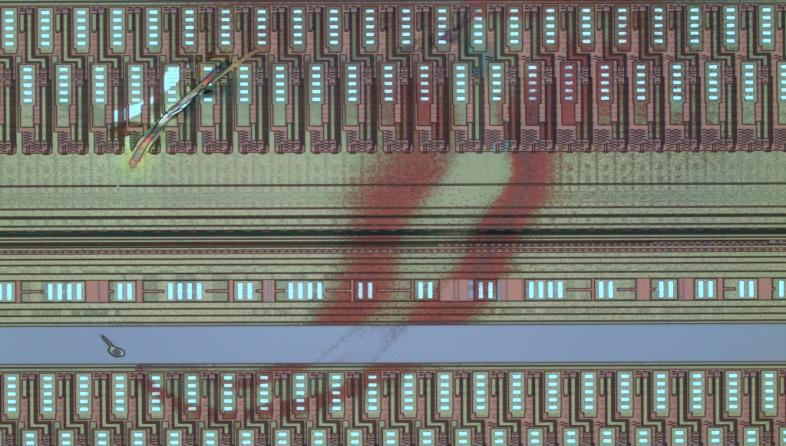BLOCK ETCH: (92, 1, 641, 424)
